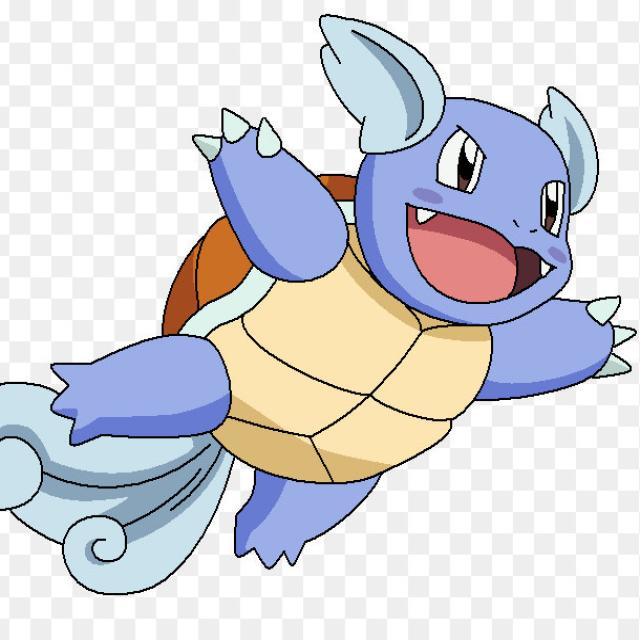Wartortle: (122, 71, 598, 567)
